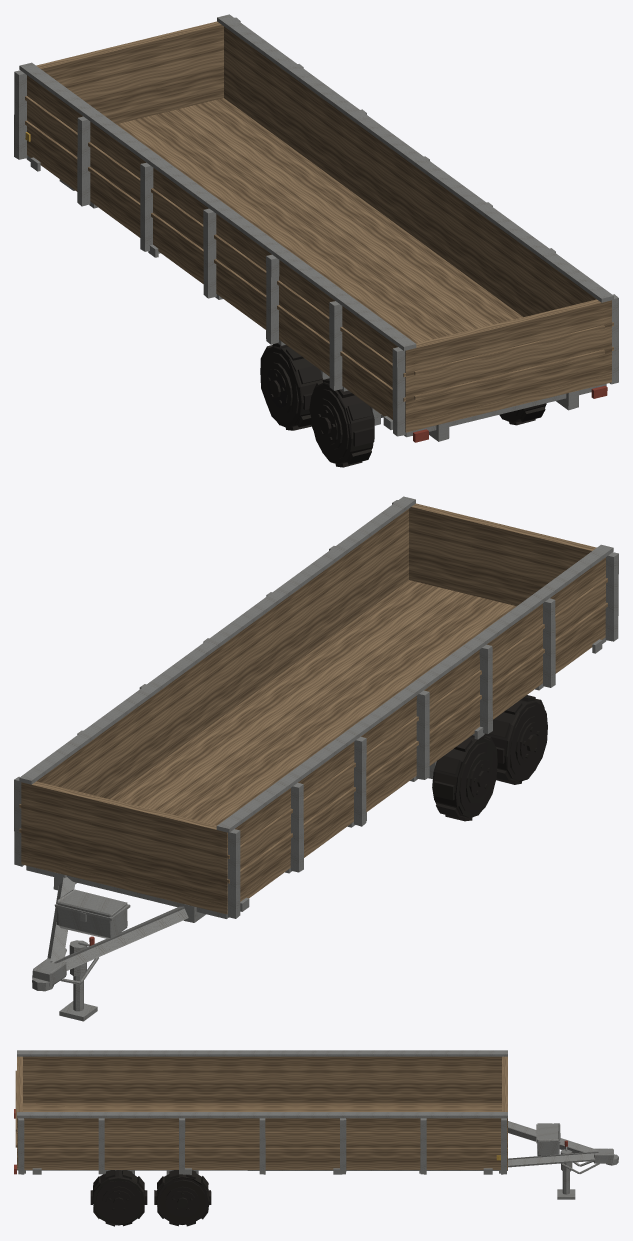
Rendered from medium_trailer.glb.
The picture shows the model from 3 angles, top to bottom: view 1: azimuth 30°, elevation 25°; view 2: azimuth 150°, elevation 25°; view 3: azimuth 270°, elevation 25°; orthographic projection. The views are drawn at different scales.
Parts seen in each view (by area): view 1: MediumTrailer, Tailgate, Wheel_L2, Wheel_L1; view 2: MediumTrailer, Tailgate, Wheel_L1, Wheel_L2, Coupler; view 3: MediumTrailer, Wheel_R2, Wheel_R1, Coupler, Tailgate.
Boxes of the visible parts, x1,y1,x2,y2 form: MediumTrailer: (14, 14, 618, 442); Tailgate: (414, 299, 603, 421); Wheel_L2: (309, 378, 374, 467); Wheel_L1: (260, 343, 323, 430); MediumTrailer: (14, 496, 618, 1021); Tailgate: (409, 503, 596, 606); Wheel_L1: (432, 734, 497, 821); Wheel_L2: (485, 695, 547, 784); Coupler: (32, 958, 66, 991); MediumTrailer: (14, 1050, 599, 1199); Wheel_R2: (90, 1170, 147, 1226); Wheel_R1: (154, 1170, 211, 1226); Coupler: (593, 1148, 618, 1165); Tailgate: (17, 1056, 22, 1111).
Size of the model in its own units: 2.3 by 1.76 by 8.49.
Materials: 5 (4 with a texture image).
